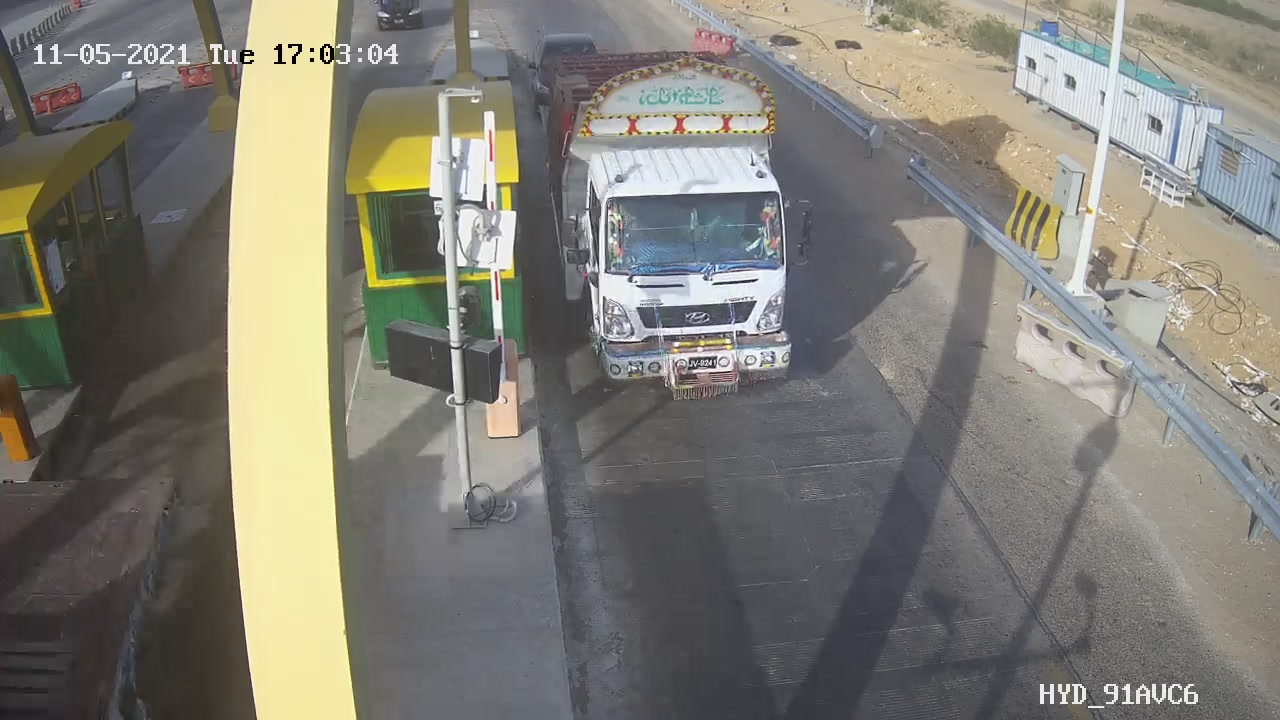F5: (527, 26, 826, 417)
